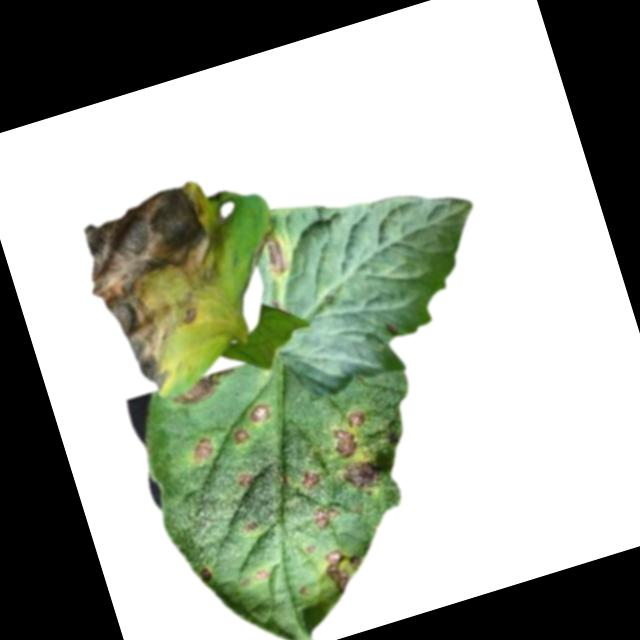Early_blight: (69, 174, 269, 401), (167, 369, 241, 414), (319, 541, 374, 600), (338, 457, 385, 493), (260, 234, 293, 284), (329, 423, 361, 463), (308, 500, 344, 534), (189, 436, 217, 467), (246, 400, 275, 428), (299, 466, 324, 491), (236, 470, 259, 491), (348, 409, 369, 428), (253, 566, 273, 585), (233, 428, 251, 447), (240, 520, 258, 536)
